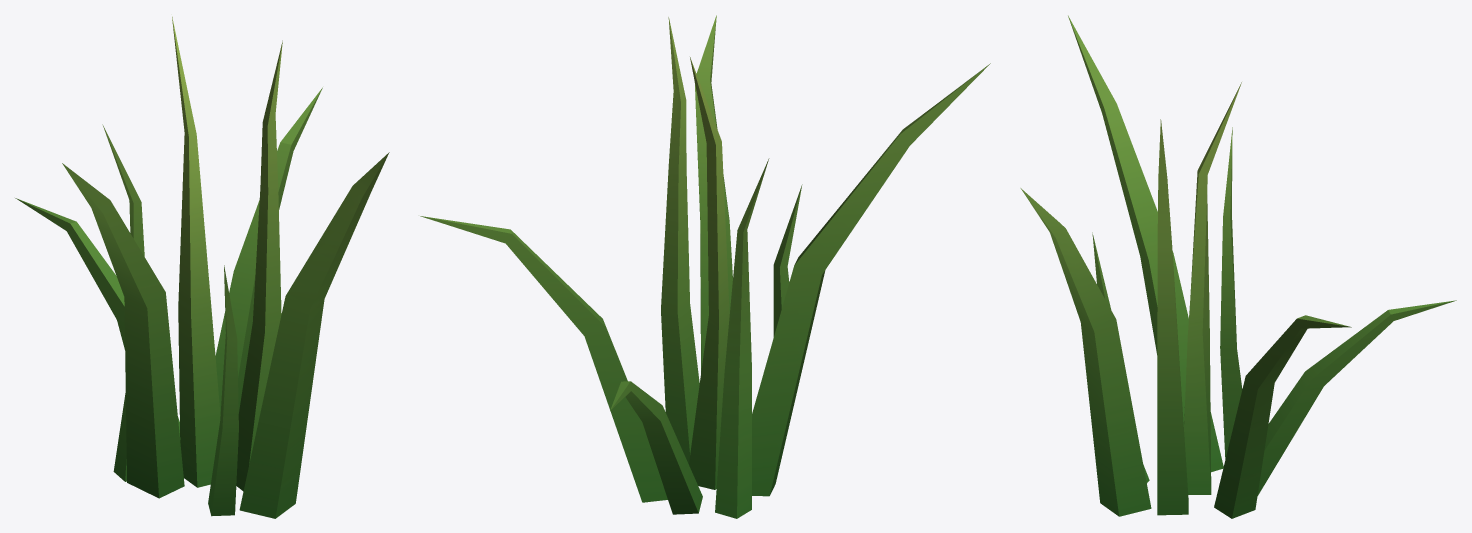
The model's file is Grass_03.fbx.
3 renders of one model, left to right at view 1: azimuth 30°, elevation 25°; view 2: azimuth 150°, elevation 25°; view 3: azimuth 270°, elevation 25°, orthographic. The views are drawn at different scales.
Parts seen in each view (by area): view 1: Grass_03; view 2: Grass_03; view 3: Grass_03.
Boxes of the visible parts, box(x1,y1,x2,y2) form: Grass_03: box(15, 16, 389, 518); Grass_03: box(420, 15, 990, 518); Grass_03: box(1020, 15, 1456, 518).
Size of the model in its own units: 41.74 by 43.67 by 41.67.
